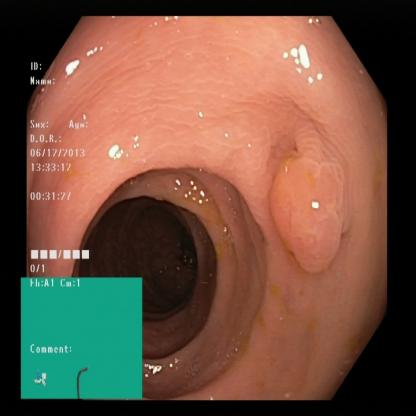Labels: (20, 275, 146, 404), (28, 53, 98, 280)
Polyps: (263, 154, 366, 274)
